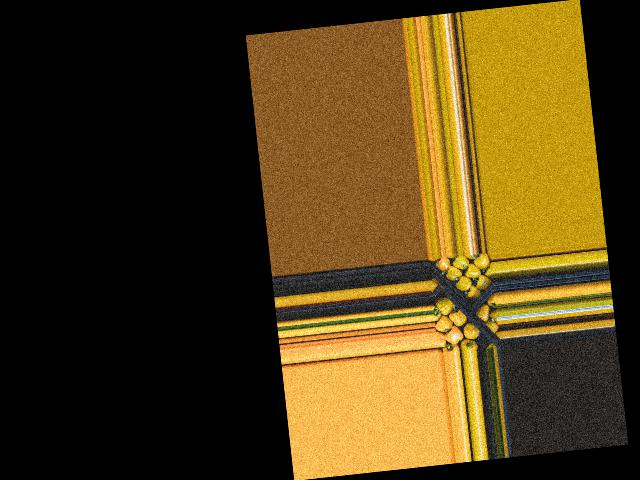bell_pepper: (475, 252, 493, 273)
